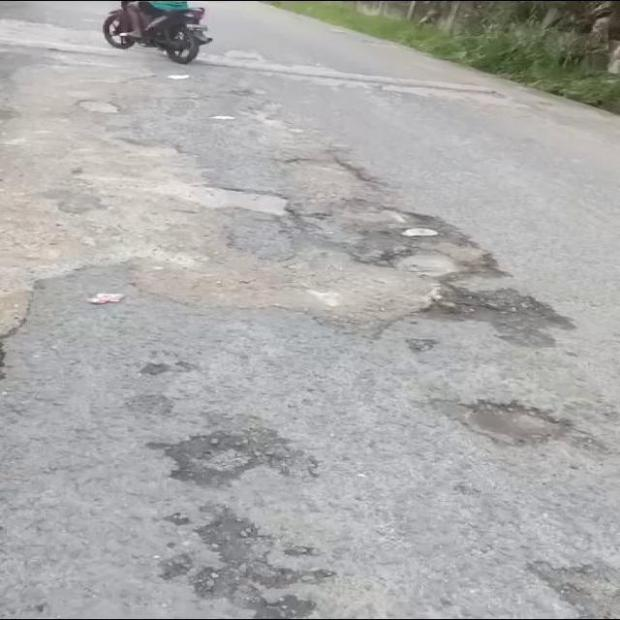lubang: (0, 132, 500, 343), (165, 493, 333, 616), (423, 275, 574, 346), (419, 393, 606, 450), (148, 429, 296, 490), (530, 563, 619, 617)
